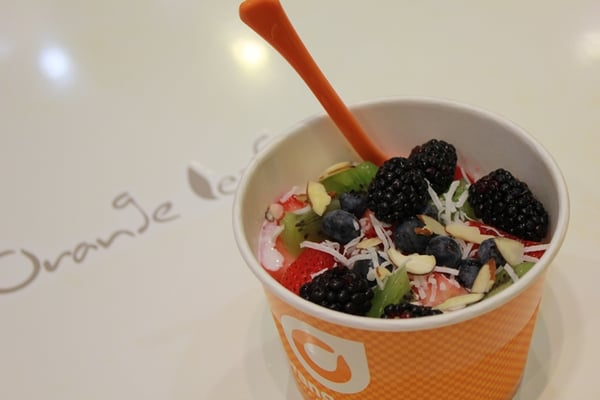curry: (466, 167, 549, 239), (365, 266, 412, 317), (320, 160, 379, 196)
salad: (238, 0, 389, 167)
sushi: (232, 101, 572, 356)
